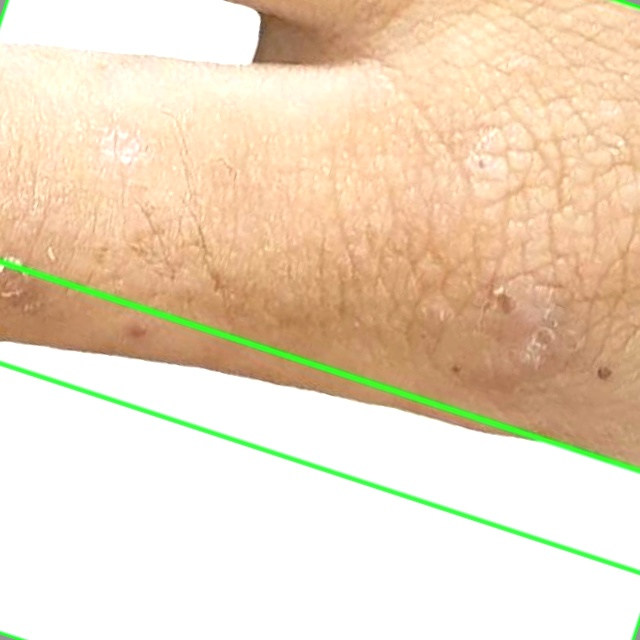Scabies: (0, 0, 639, 572), (0, 261, 639, 639)
